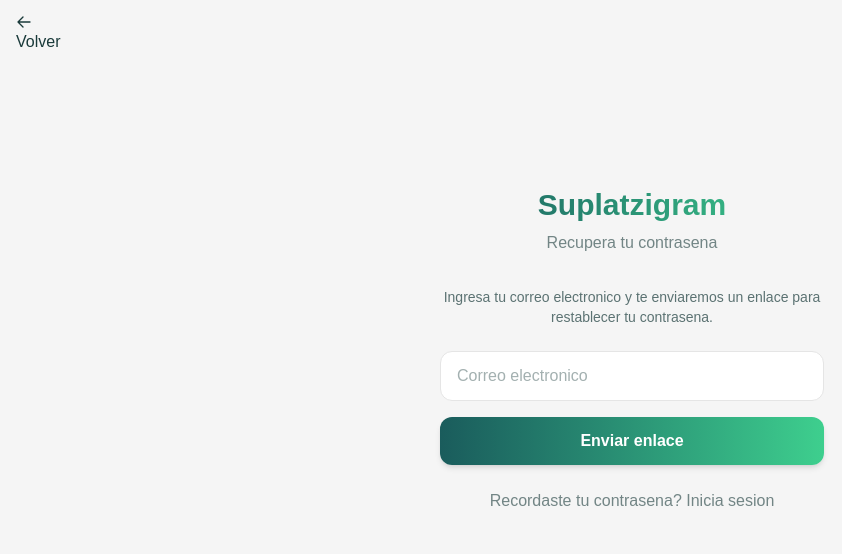
Test: ForgotPasswordPage › Form Submission - Error › shows error message when resetPasswordForEmail fails
The width and height of the screenshot is (842, 554).
Type "notfound@example.com" into the field with placeholder "Correo electronico" at (632, 376), box 440,351 -> 824,401
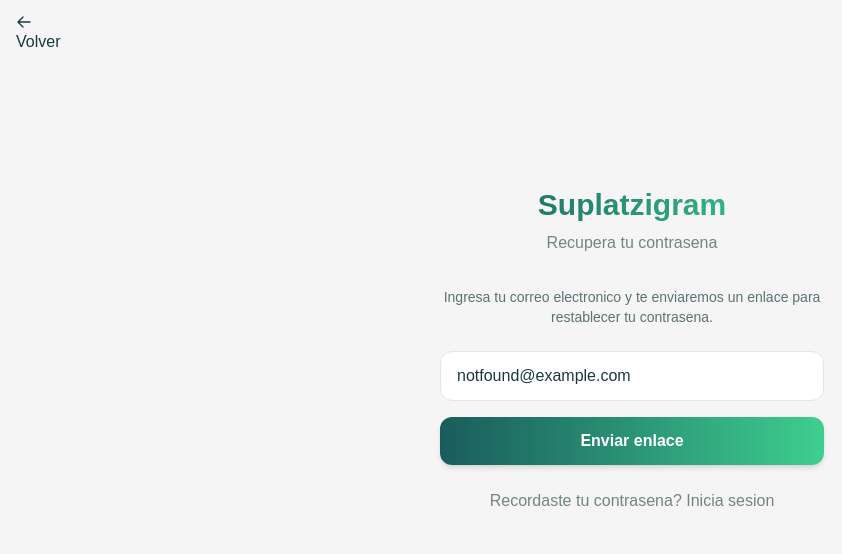
Click the button "Enviar enlace" at (632, 441), box 440,417 -> 824,465
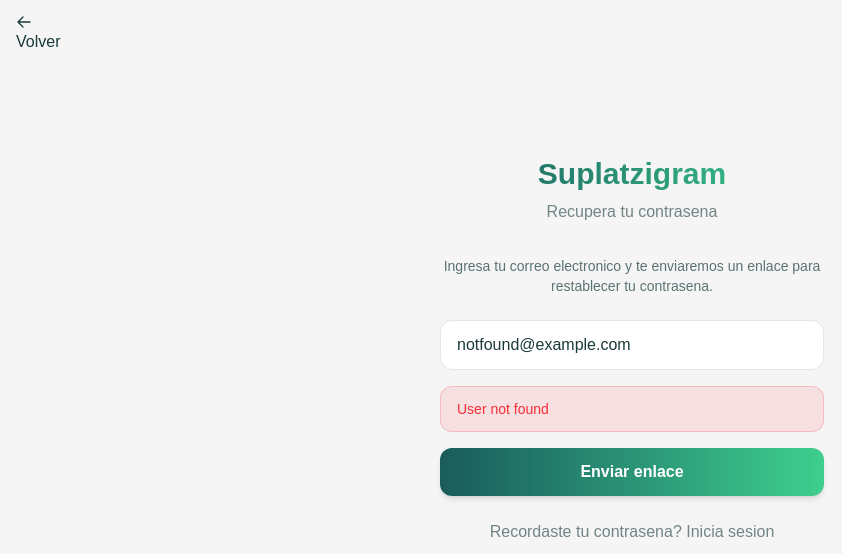
Expected: the text "User not found" is shown, 440,386 -> 824,432
